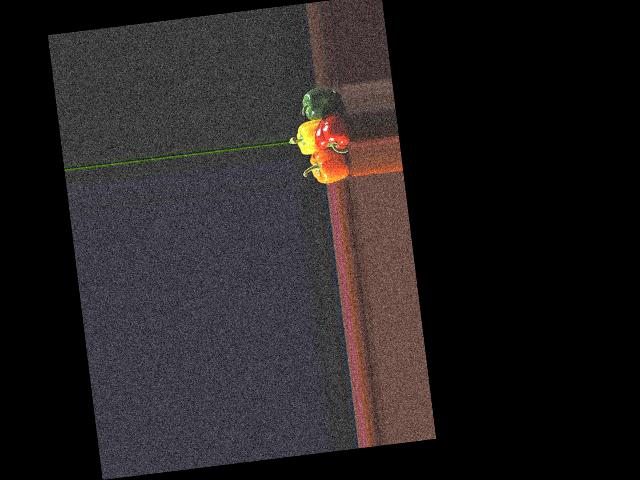bell_pepper: (304, 145, 356, 186)
